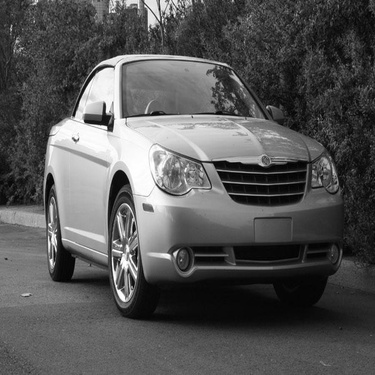car: (36, 48, 348, 308)
